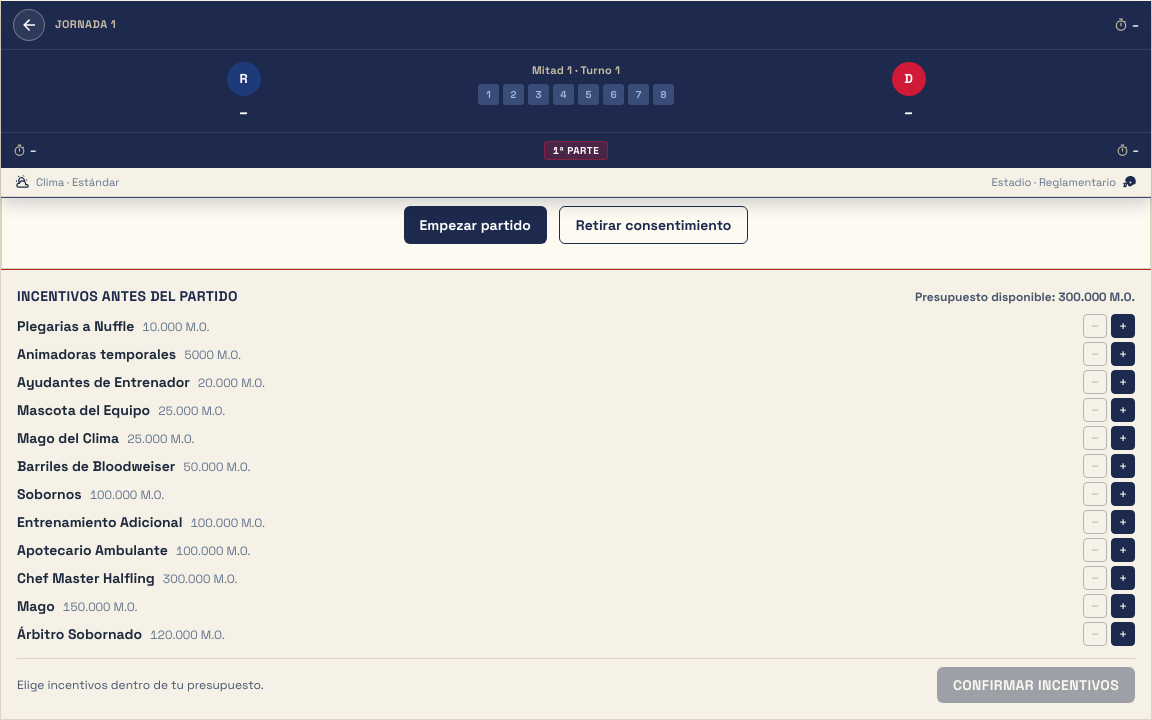
MatchView — ready-phase inducement purchase step (IND-2/3, LM-30/S2) › surfaces a server rejection as an a11y alert
(page scrolled)
Click the button named "Añadir Mago" at (1123, 606), box [1111,594,1135,618]
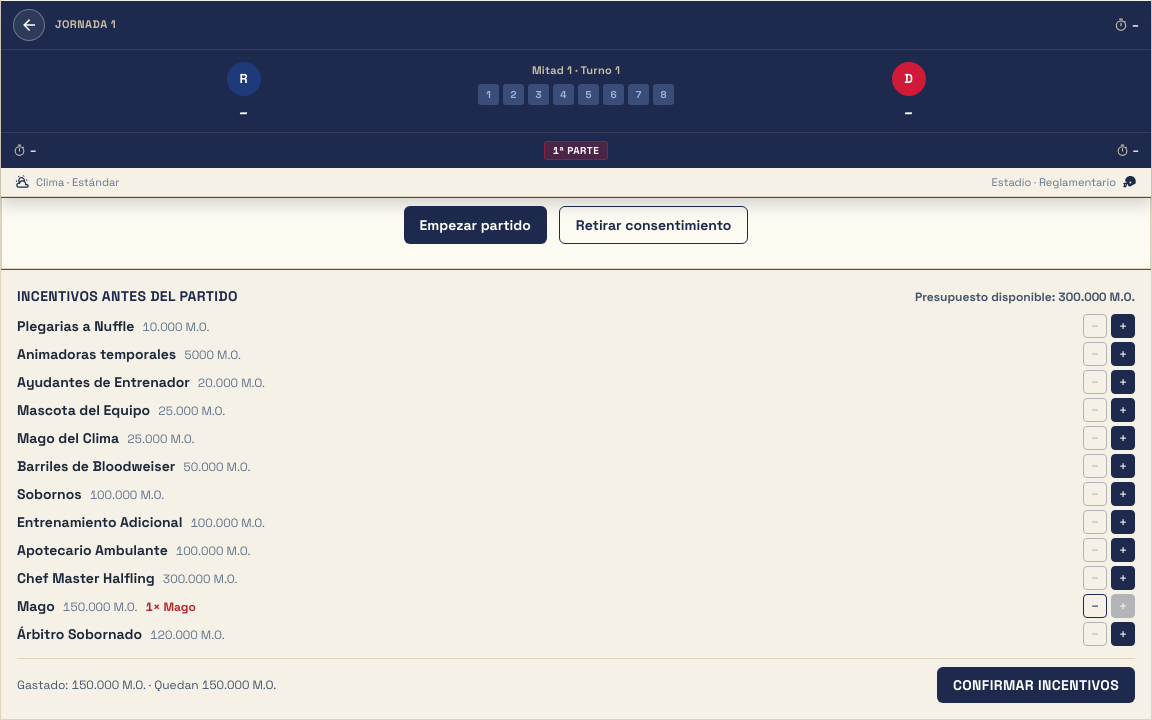
Click the button "Confirmar incentivos" at (1036, 685), box [937,667,1135,703]
(page scrolled)
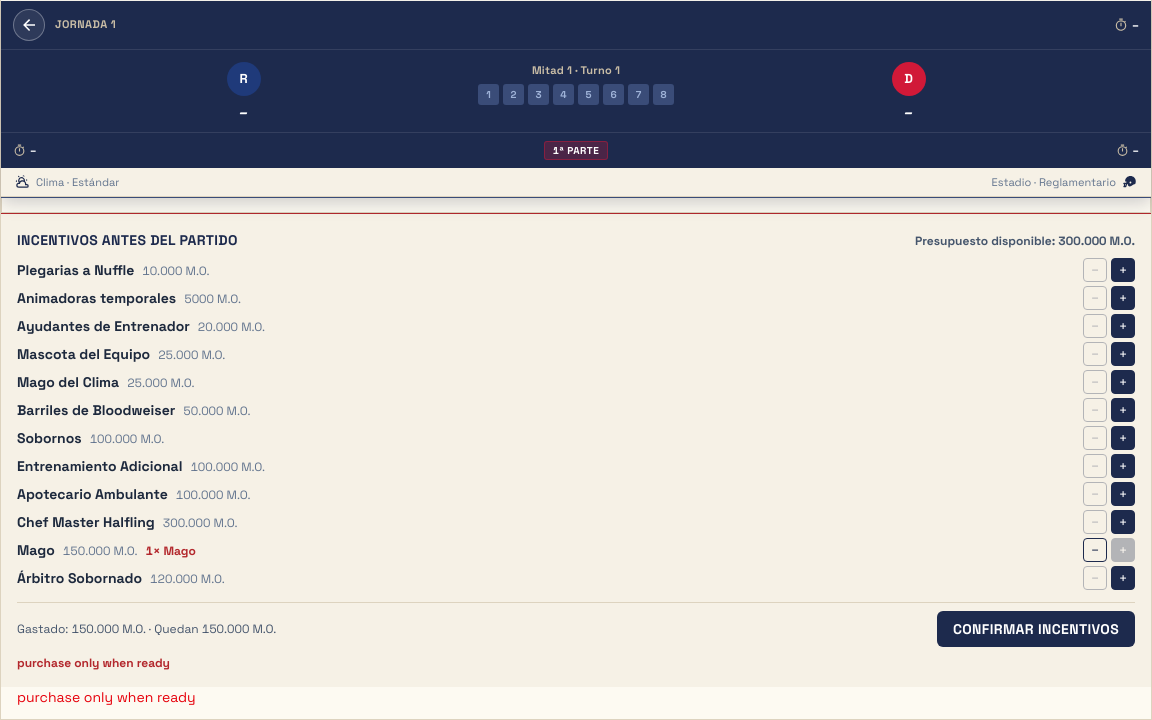
Now the message "purchase only when ready" below "Gastado: 150.000 M.O." is shown, box [17,655,170,671]
